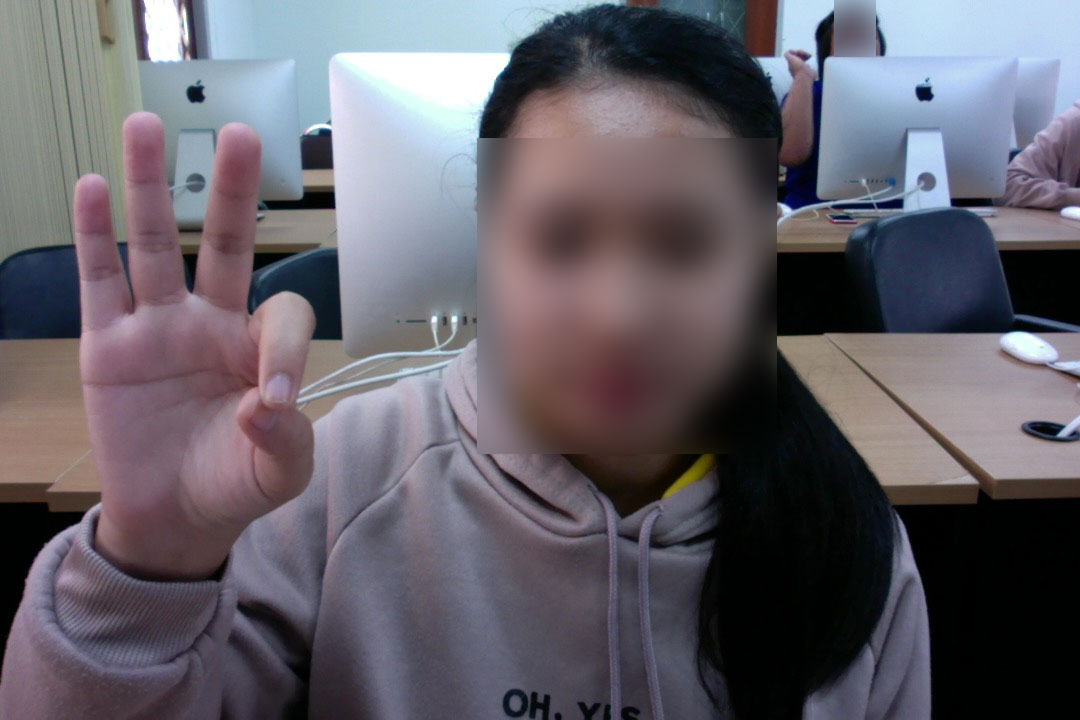for: (35, 99, 342, 573)
